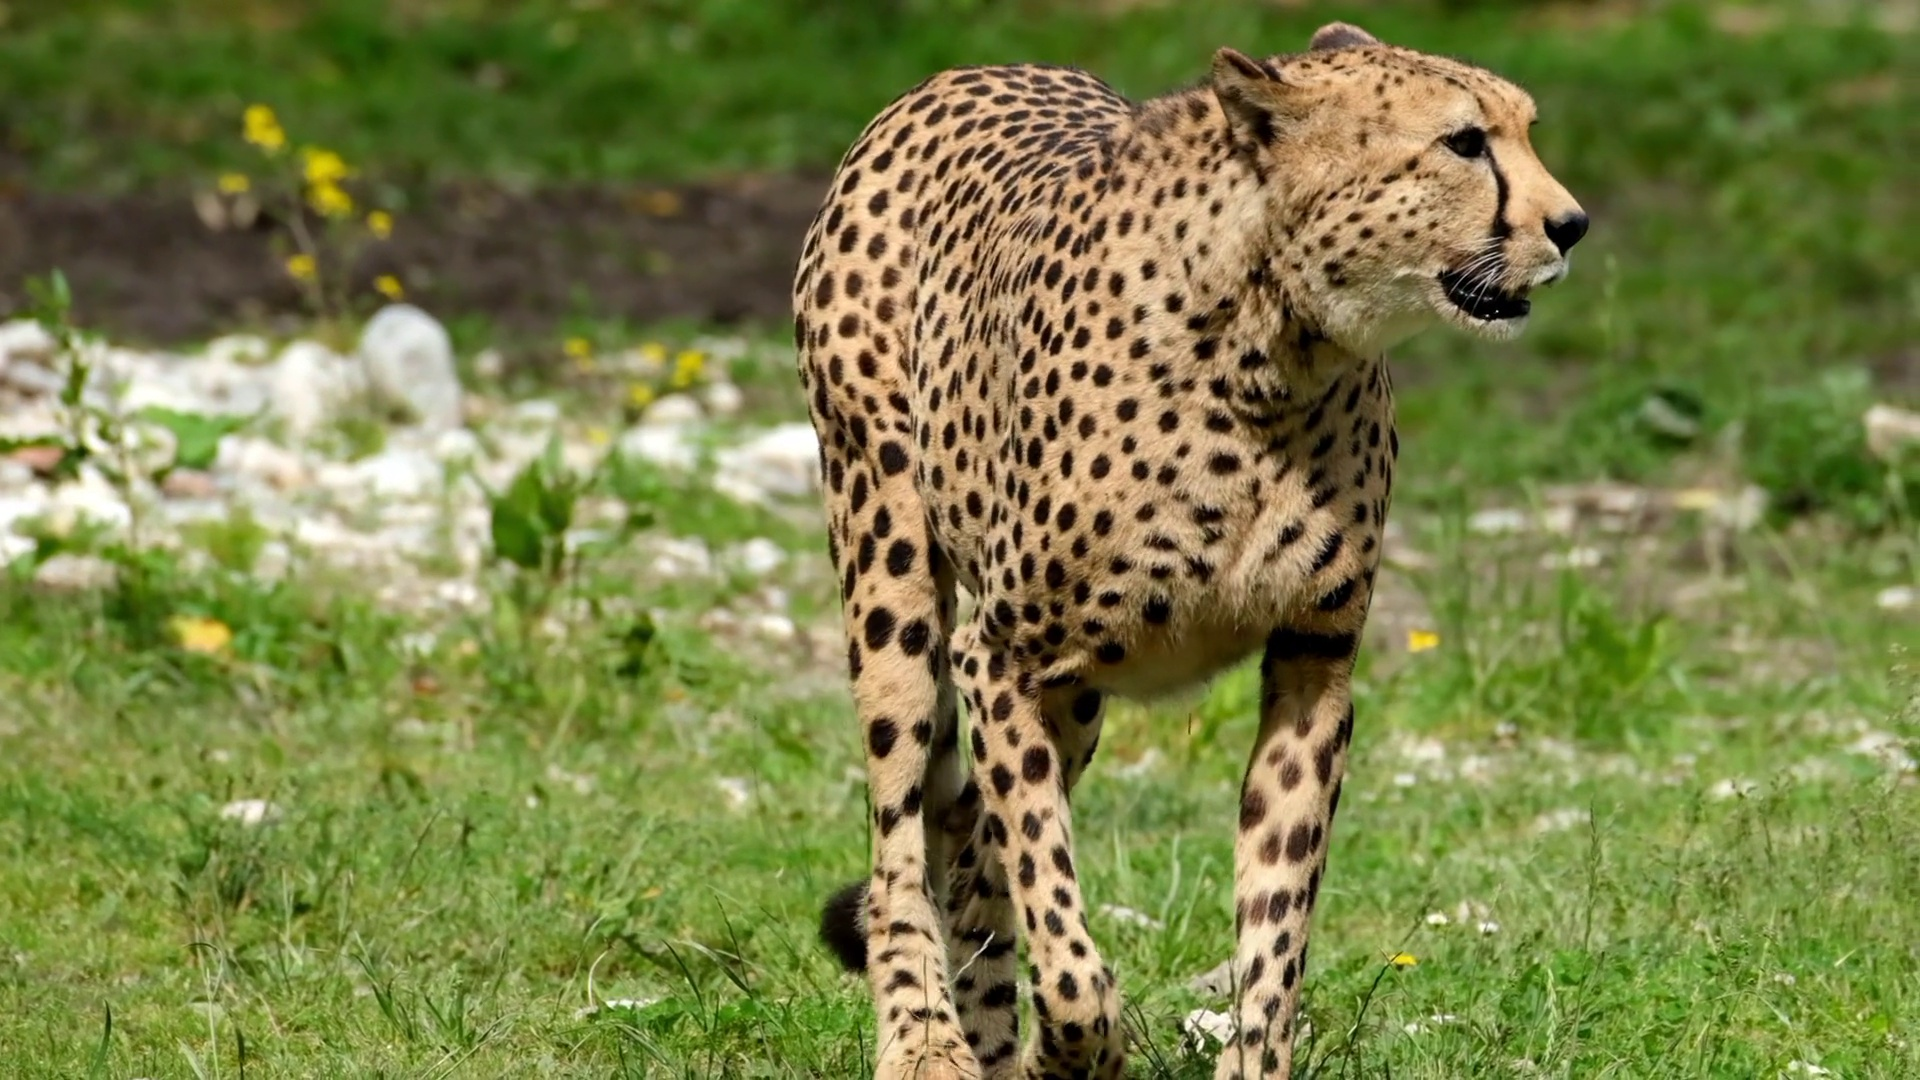Cheetah: (781, 15, 1594, 1080)
